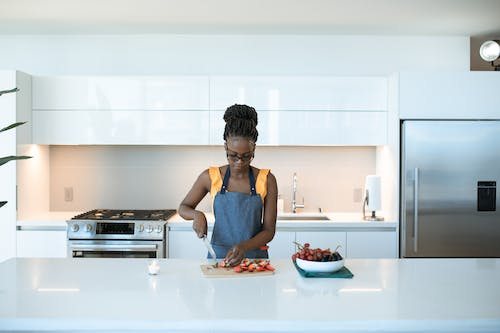knife: (202, 233, 217, 264)
